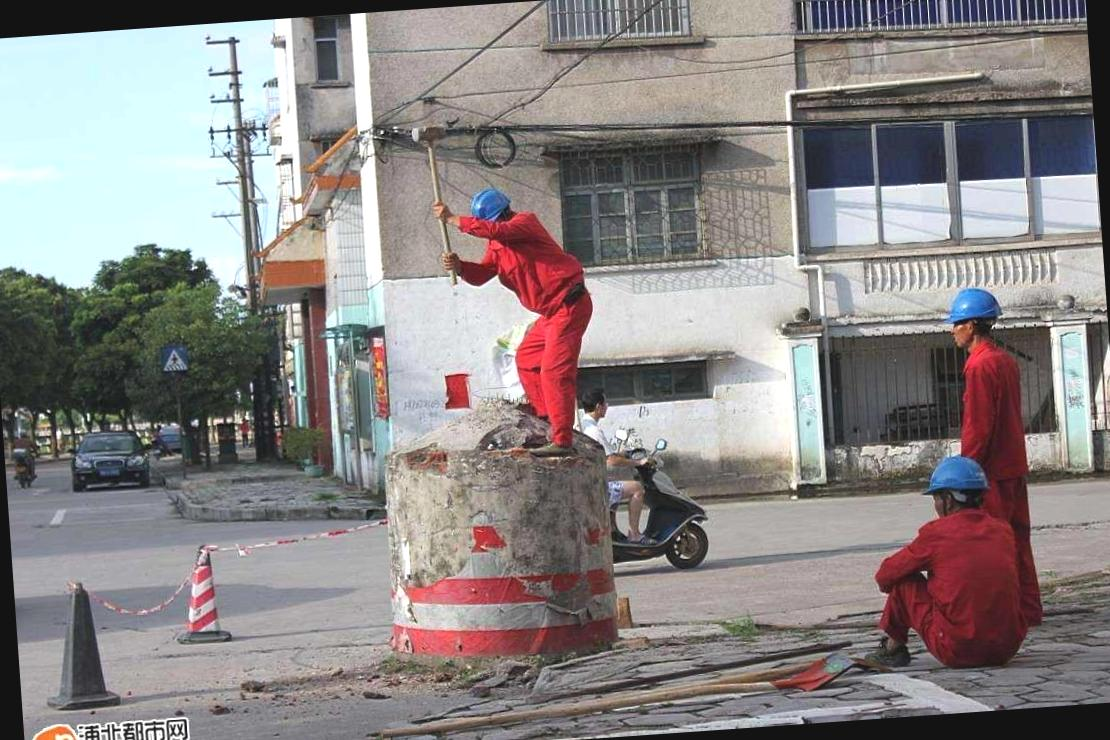helmet: (920, 452, 994, 498), (948, 278, 1000, 326), (472, 181, 518, 224)
person: (435, 177, 613, 467), (848, 452, 1044, 684), (931, 276, 1038, 450)
